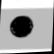correct: (6, 11, 39, 42)
